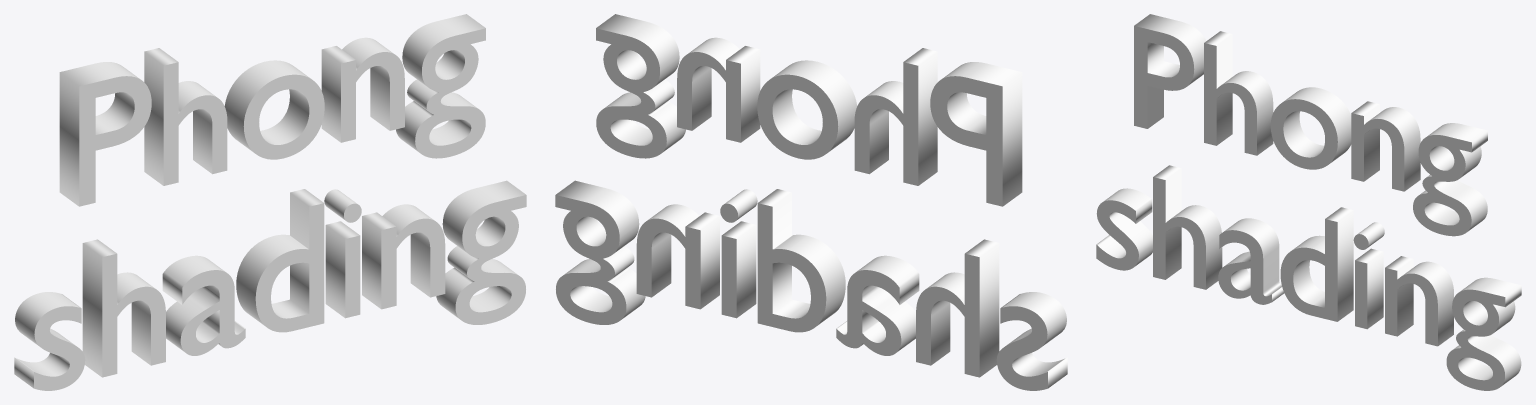
File: phong_shading.obj
The picture shows the model from 3 angles, left to right: view 1: azimuth 30°, elevation 25°; view 2: azimuth 150°, elevation 25°; view 3: azimuth 330°, elevation 25°; orthographic projection. The views are drawn at different scales.
Visible parts, largest first — view 1: Text_Text_Material; view 2: Text_Text_Material; view 3: Text_Text_Material.
Boxes of the visible parts, bbox=[...] form: Text_Text_Material: bbox=[14, 14, 526, 390]; Text_Text_Material: bbox=[555, 14, 1067, 390]; Text_Text_Material: bbox=[1096, 14, 1521, 390].
Bounding box in the file's own units: 2.92 × 1.91 × 0.2.
Materials: 1 (1 with a texture image).
